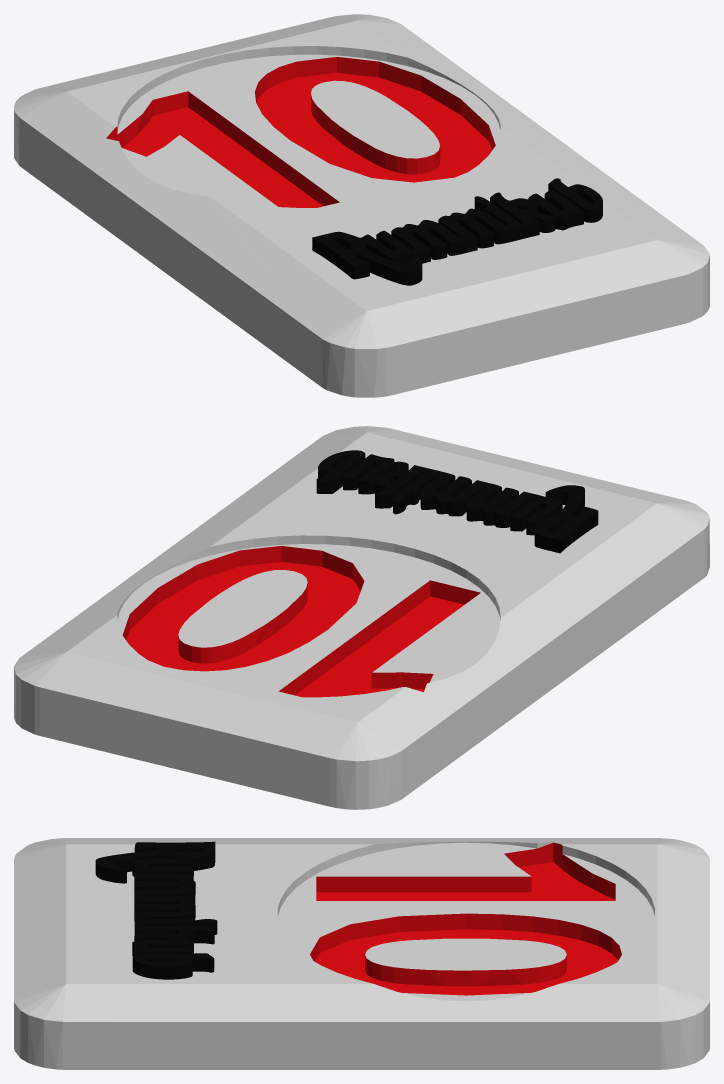
The picture shows the model from 3 angles, top to bottom: view 1: azimuth 30°, elevation 25°; view 2: azimuth 150°, elevation 25°; view 3: azimuth 270°, elevation 25°; orthographic projection.
Parts seen in each view (by area): view 1: Rummikub 10 Fixed, Rummikub 1 Fixed.001; view 2: Rummikub 10 Fixed, Rummikub 1 Fixed.001; view 3: Rummikub 10 Fixed, Rummikub 1 Fixed.001.
Part boxes in pixels (x1,y1,x2,y2): Rummikub 10 Fixed: (14, 14, 709, 397); Rummikub 1 Fixed.001: (312, 178, 602, 285); Rummikub 10 Fixed: (14, 426, 709, 809); Rummikub 1 Fixed.001: (316, 450, 598, 553); Rummikub 10 Fixed: (14, 838, 709, 1069); Rummikub 1 Fixed.001: (95, 841, 217, 979).
Size of the model in its own units: 2499 by 486 by 4000.
